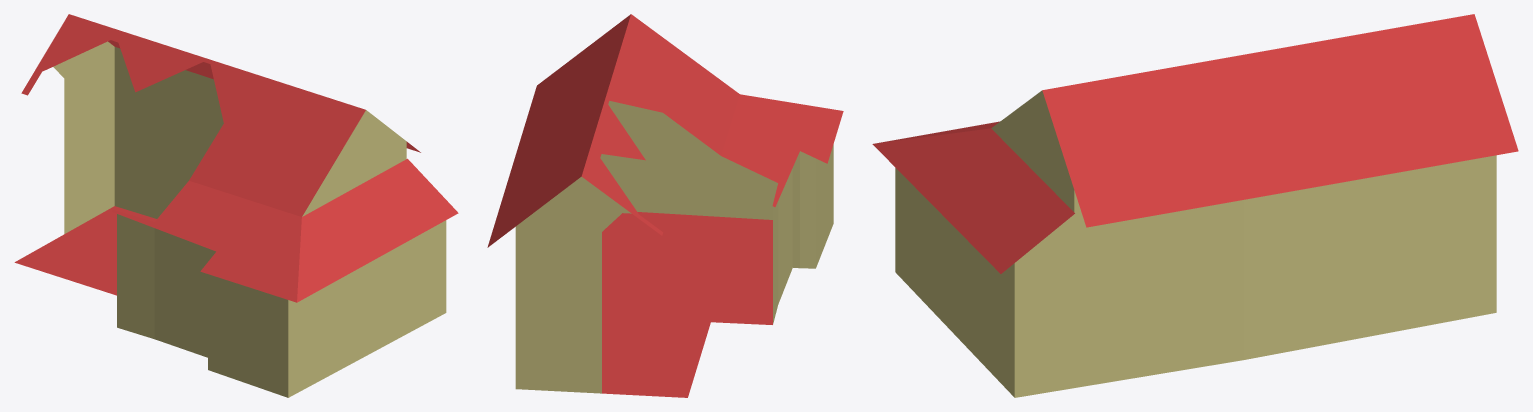
The picture shows the model from 3 angles, left to right: view 1: azimuth 30°, elevation 25°; view 2: azimuth 150°, elevation 25°; view 3: azimuth 270°, elevation 25°; orthographic projection. The views are drawn at different scales.
Size of the model in its own units: 21.65 by 34.63 by 15.68.
